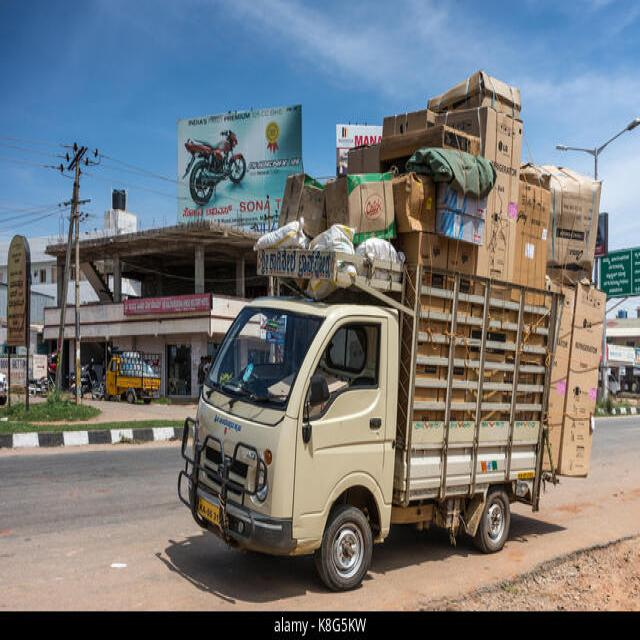goods: (320, 72, 602, 473), (279, 175, 301, 225)
truck: (179, 251, 559, 589)
